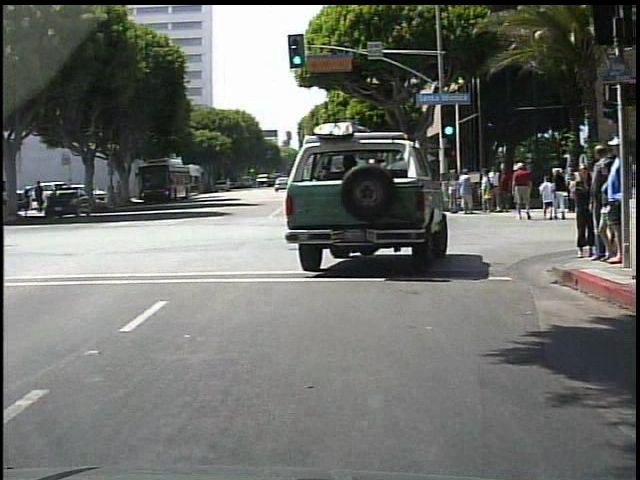person: (601, 135, 628, 265), (571, 155, 599, 263), (589, 144, 612, 262), (512, 162, 533, 223), (553, 166, 570, 222), (537, 173, 556, 223), (460, 166, 476, 216), (479, 169, 493, 213), (502, 168, 515, 215), (489, 166, 501, 210), (446, 167, 457, 214), (116, 181, 125, 208), (108, 181, 117, 204)
